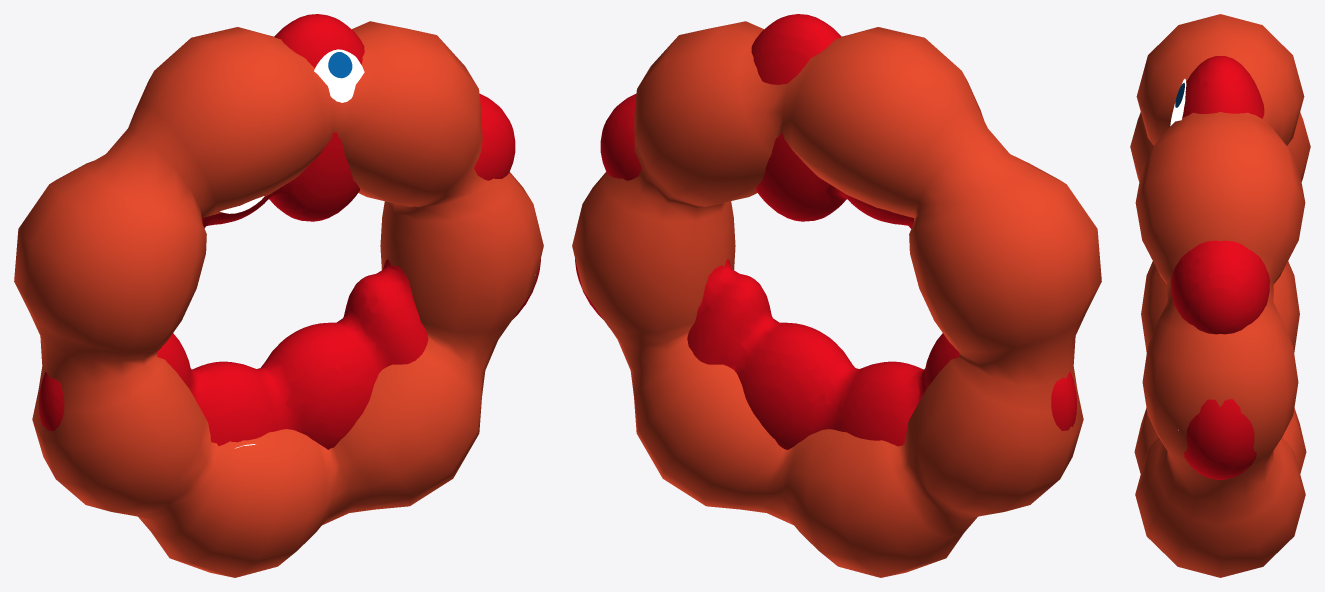
3 renders of one model, left to right at view 1: azimuth 30°, elevation 25°; view 2: azimuth 150°, elevation 25°; view 3: azimuth 270°, elevation 25°, orthographic. The views are drawn at different scales.
Visible parts, largest first — view 1: トーラス, メタボール.022; view 2: トーラス, メタボール.022; view 3: トーラス, メタボール.022.
Part boxes in pixels (x1,y1,x2,y2): トーラス: (14, 21, 543, 577); メタボール.022: (39, 14, 540, 449); トーラス: (572, 21, 1101, 577); メタボール.022: (575, 14, 1076, 449); トーラス: (1130, 14, 1310, 577); メタボール.022: (1170, 56, 1269, 479).
Bounding box in the file's own units: 2.76 × 2.75 × 0.8894.
